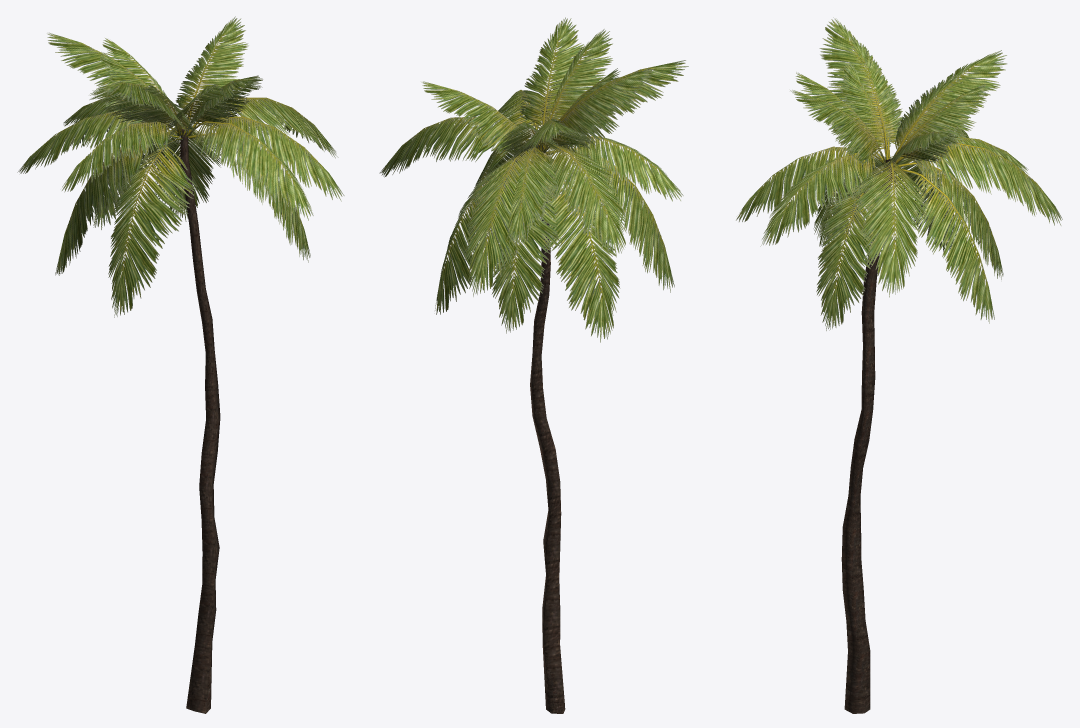
File: palm tree.fbx
3 renders of one model, left to right at view 1: azimuth 30°, elevation 25°; view 2: azimuth 150°, elevation 25°; view 3: azimuth 270°, elevation 25°, orthographic. The views are drawn at different scales.
Visible parts, largest first — view 1: PalmTree01_LOD0; view 2: PalmTree01_LOD0; view 3: PalmTree01_LOD0.
Boxes of the visible parts, x1,y1,x2,y2 form: PalmTree01_LOD0: [17, 16, 344, 713]; PalmTree01_LOD0: [379, 17, 688, 713]; PalmTree01_LOD0: [736, 17, 1062, 713].
Bounding box in the file's own units: 982 × 2064 × 980.
